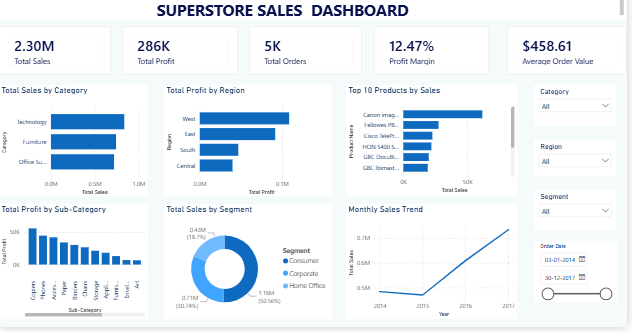

This screenshot's page, from the dashboard's own definition file:
{"tool":"powerbi","page":{"name":"Page 1","canvas":[1280,720],"ordinal":0},"visuals":[{"type":"cardVisual","fields":{"Data":["Sample - Superstore.Total Sales"]},"box":[0,105.8,228.5,99.1],"z":0},{"type":"cardVisual","fields":{"Data":["Sample - Superstore.Total Profit"]},"box":[250.3,105.8,236.9,99.1],"z":1000},{"type":"cardVisual","fields":{"Data":["Sample - Superstore.Total Orders"]},"box":[510.7,105.8,230.1,99.1],"z":2000},{"type":"cardVisual","fields":{"Data":["Sample - Superstore.Profit Margin"]},"box":[766,105.8,235.2,99.1],"z":3000},{"type":"cardVisual","fields":{"Data":["Sample - Superstore.Average Order Value"]},"box":[1036.4,105.8,243.6,99.1],"z":4000},{"type":"clusteredBarChart","fields":{"Category":["Sample - Superstore.Category"],"Y":["Sample - Superstore.Total Sales"]},"box":[0,226.8,304,228.5],"z":5000},{"type":"lineChart","title":"Monthly  Sales Trend","fields":{"Category":["Sample - Superstore.Order Date.Variation.Date Hierarchy.Year","Sample - Superstore.Order Date.Variation.Date Hierarchy.Month"],"Y":["Sample - Superstore.Total Sales"]},"box":[708.9,468.7,349.4,235.2],"z":6000},{"type":"donutChart","fields":{"Category":["Sample - Superstore.Segment"],"Y":["Sample - Superstore.Total Sales"]},"box":[337.6,468.7,344.4,235.2],"z":7000},{"type":"clusteredBarChart","fields":{"Category":["Sample - Superstore.Region"],"Y":["Sample - Superstore.Total Profit"]},"box":[337.6,226.8,344.4,228.5],"z":8000},{"type":"clusteredBarChart","title":"Top 10 Products by Sales ","fields":{"Category":["Sample - Superstore.Product Name"],"Y":["Sample - Superstore.Total Sales"]},"box":[708.9,226.8,349.4,225.1],"z":9000},{"type":"clusteredColumnChart","fields":{"Category":["Sample - Superstore.Sub-Category"],"Y":["Sample - Superstore.Total Profit"]},"box":[0,468.7,304,235.2],"z":10000},{"type":"slicer","fields":{"Values":["Sample - Superstore.Category"]},"box":[1091.9,226.8,168,82.3],"z":11000},{"type":"slicer","fields":{"Values":["Sample - Superstore.Region"]},"box":[1091.9,339.3,168,73.9],"z":12000},{"type":"slicer","fields":{"Values":["Sample - Superstore.Segment"]},"box":[1091.9,440.1,168,82.3],"z":13000},{"type":"slicer","fields":{"Values":["Sample - Superstore.Order Date"]},"box":[1091.9,544.3,168,122.6],"z":14000},{"type":"textbox","box":[0,47,1280,47],"z":15000}]}

Visuals, with their boxes on the page's 1280x720 design canvas (x1, y1, x2, y2). These are canvas units, not pixel positions in the 632x332 screenshot, which may show the page scaled, cropped or inside an application window:
cardVisual - Sample - Superstore.Total Sales: 0/106/228/205
cardVisual - Sample - Superstore.Total Profit: 250/106/487/205
cardVisual - Sample - Superstore.Total Orders: 511/106/741/205
cardVisual - Sample - Superstore.Profit Margin: 766/106/1001/205
cardVisual - Sample - Superstore.Average Order Value: 1036/106/1280/205
clusteredBarChart - Sample - Superstore.Category x Sample - Superstore.Total Sales: 0/227/304/455
"Monthly  Sales Trend" lineChart: 709/469/1058/704
donutChart - Sample - Superstore.Segment x Sample - Superstore.Total Sales: 338/469/682/704
clusteredBarChart - Sample - Superstore.Region x Sample - Superstore.Total Profit: 338/227/682/455
"Top 10 Products by Sales " clusteredBarChart: 709/227/1058/452
clusteredColumnChart - Sample - Superstore.Sub-Category x Sample - Superstore.Total Profit: 0/469/304/704
slicer - Sample - Superstore.Category: 1092/227/1260/309
slicer - Sample - Superstore.Region: 1092/339/1260/413
slicer - Sample - Superstore.Segment: 1092/440/1260/522
slicer - Sample - Superstore.Order Date: 1092/544/1260/667
textbox: 0/47/1280/94
